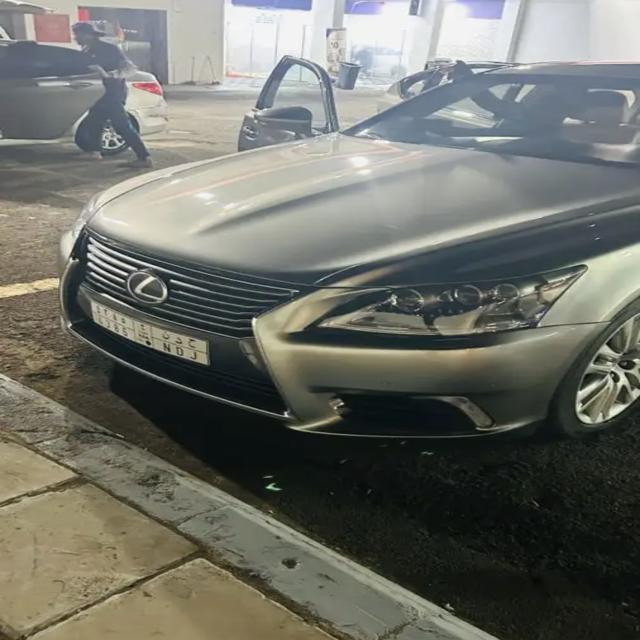license_plate: (88, 296, 210, 366)
